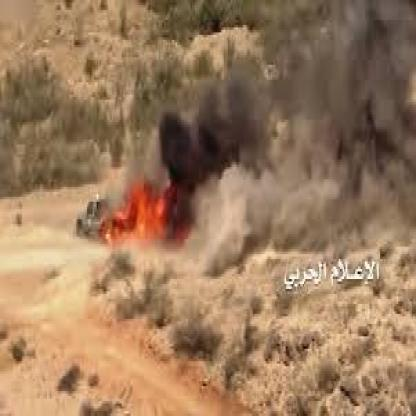fire: (108, 177, 184, 243)
smoke: (161, 85, 367, 227)
